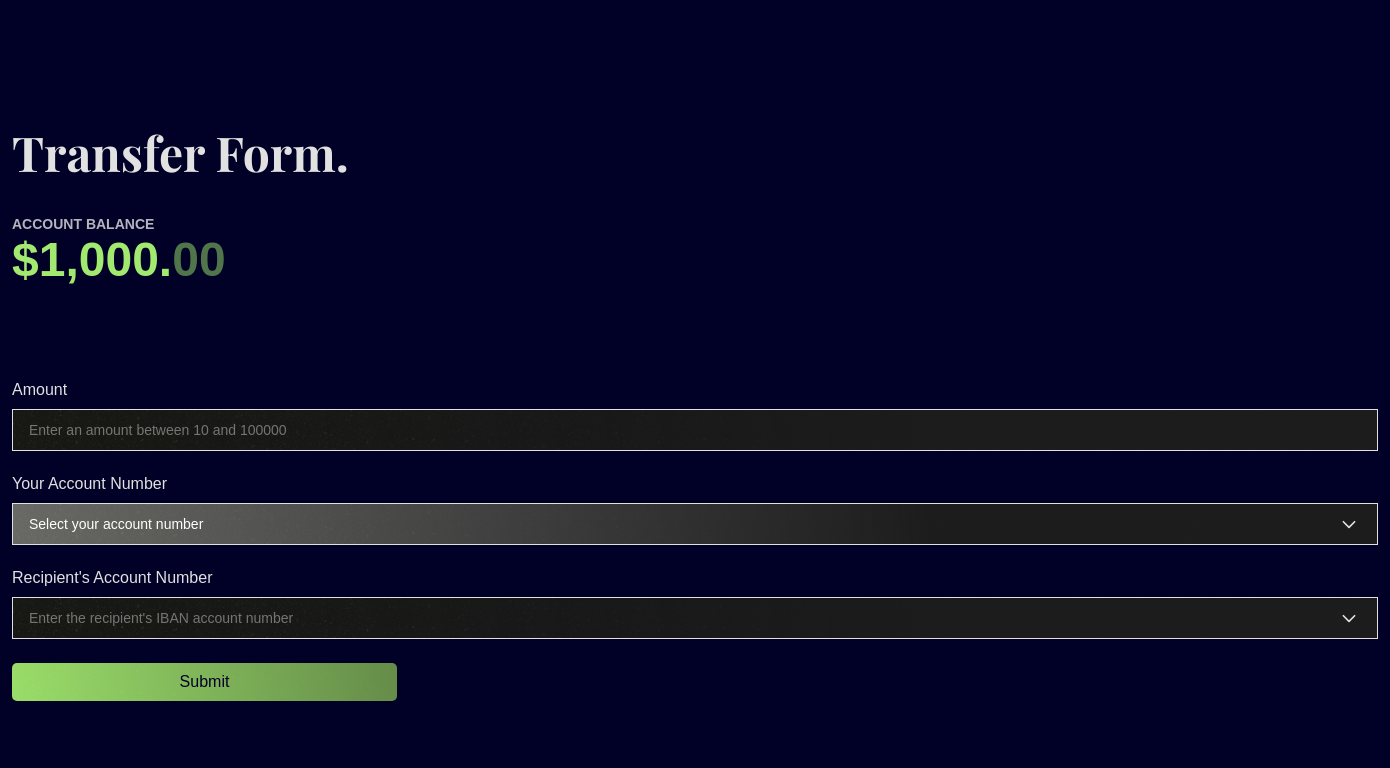
Test case: Transfer Component › validates the amount if the amount exceeds balance
The width and height of the screenshot is (1390, 768).
Type "1500" into the number field with placeholder "Enter an amount between 10 and 100000" at [695, 430], box [12, 409, 1378, 451]
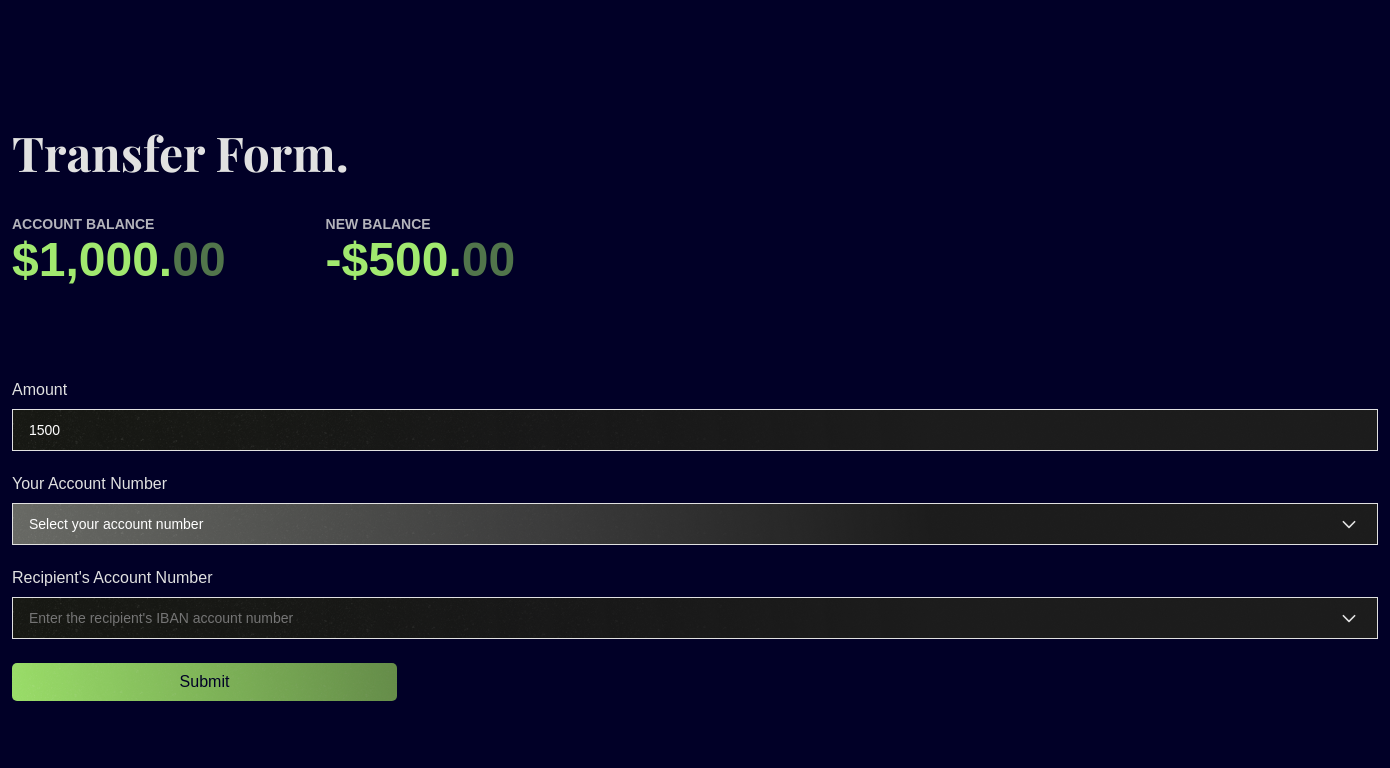
Now the element with test id "balance" reads "-$500.00", box [326, 232, 515, 287]
